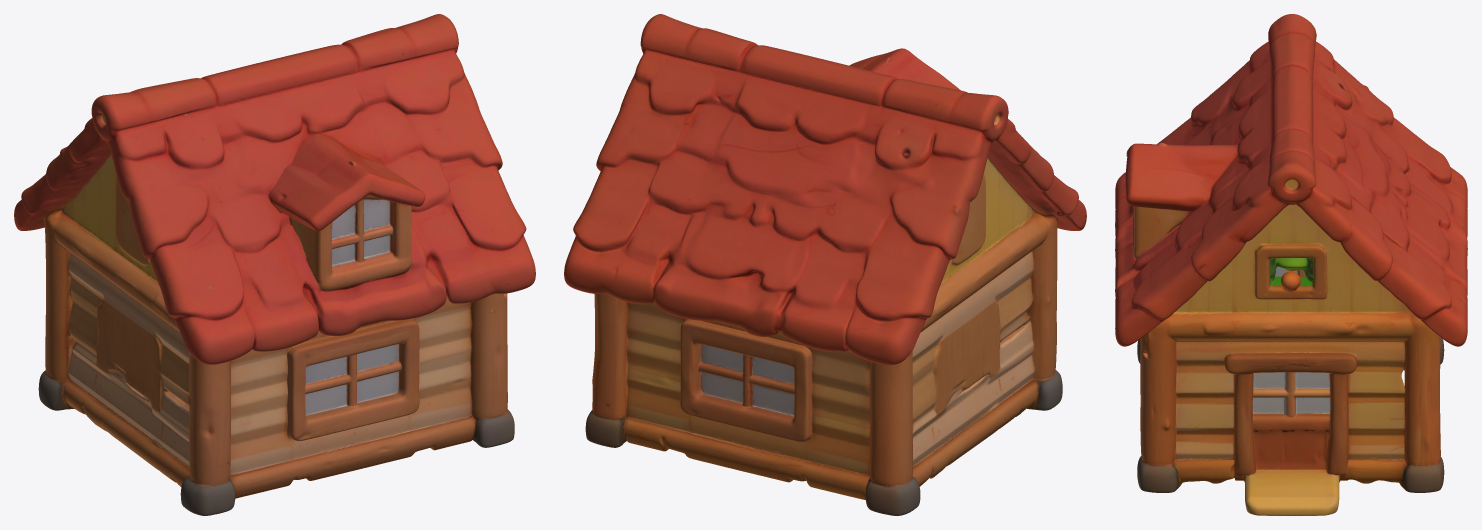
Rendered from house1.glb.
3 renders of one model, left to right at view 1: azimuth 30°, elevation 25°; view 2: azimuth 150°, elevation 25°; view 3: azimuth 270°, elevation 25°, orthographic. The views are drawn at different scales.
Visible parts, largest first — view 1: tripo_node_ac9e8f64-127b-498d-a840-a67f385c2a08; view 2: tripo_node_ac9e8f64-127b-498d-a840-a67f385c2a08; view 3: tripo_node_ac9e8f64-127b-498d-a840-a67f385c2a08.
Part boxes in pixels (x1=…): tripo_node_ac9e8f64-127b-498d-a840-a67f385c2a08: x1=14, y1=14, x2=535, y2=515; tripo_node_ac9e8f64-127b-498d-a840-a67f385c2a08: x1=564, y1=14, x2=1086, y2=515; tripo_node_ac9e8f64-127b-498d-a840-a67f385c2a08: x1=1115, y1=14, x2=1467, y2=515.
Bounding box in the file's own units: 1 × 0.8889 × 0.8537.
Materials: 1 (1 with a texture image).
